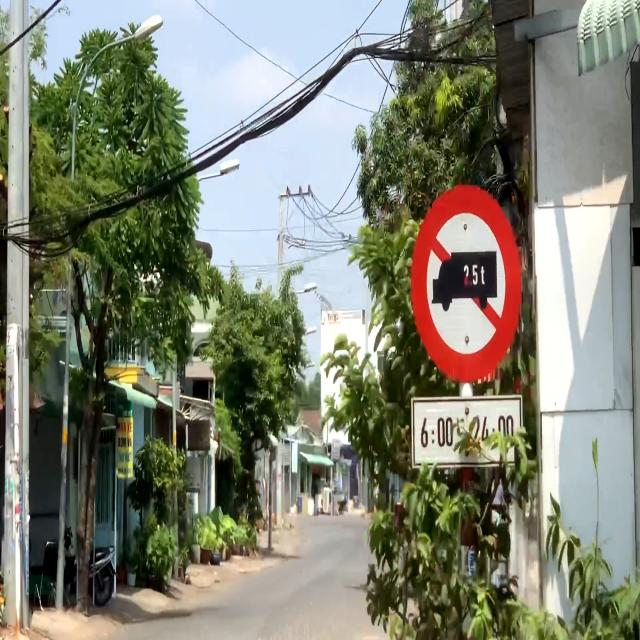P.106b: (409, 184, 524, 386)
